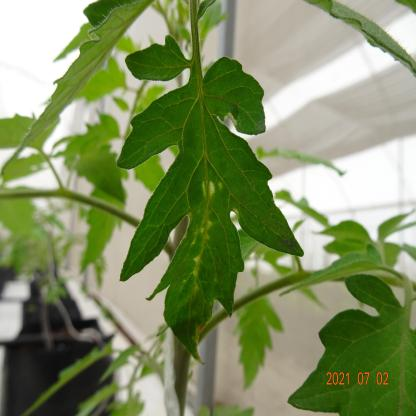T_L_H: (289, 275, 416, 416)
T_L_R: (116, 38, 306, 364)
